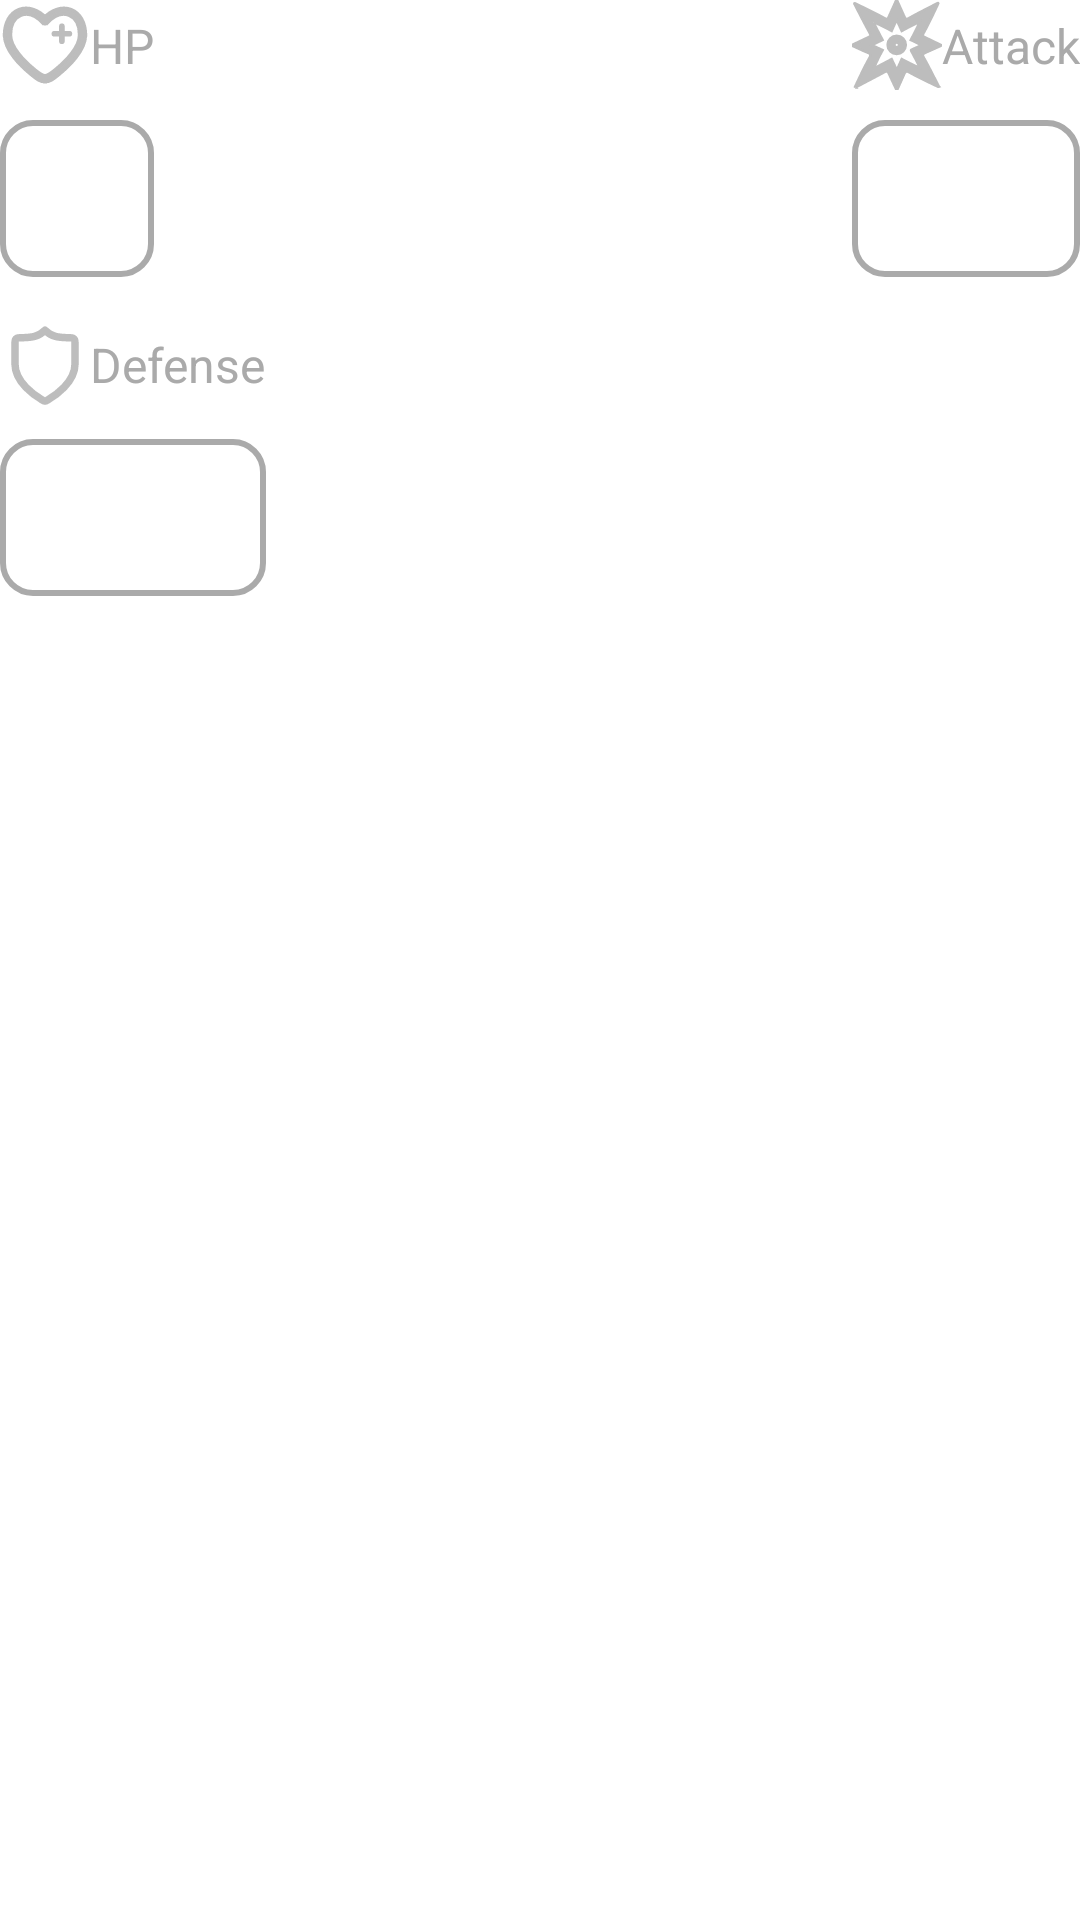

Locate icon controls on the screen. Image size 1080*1920, boxes as (x1, y1, x2, y2).
damage: (852, 0, 942, 90)
